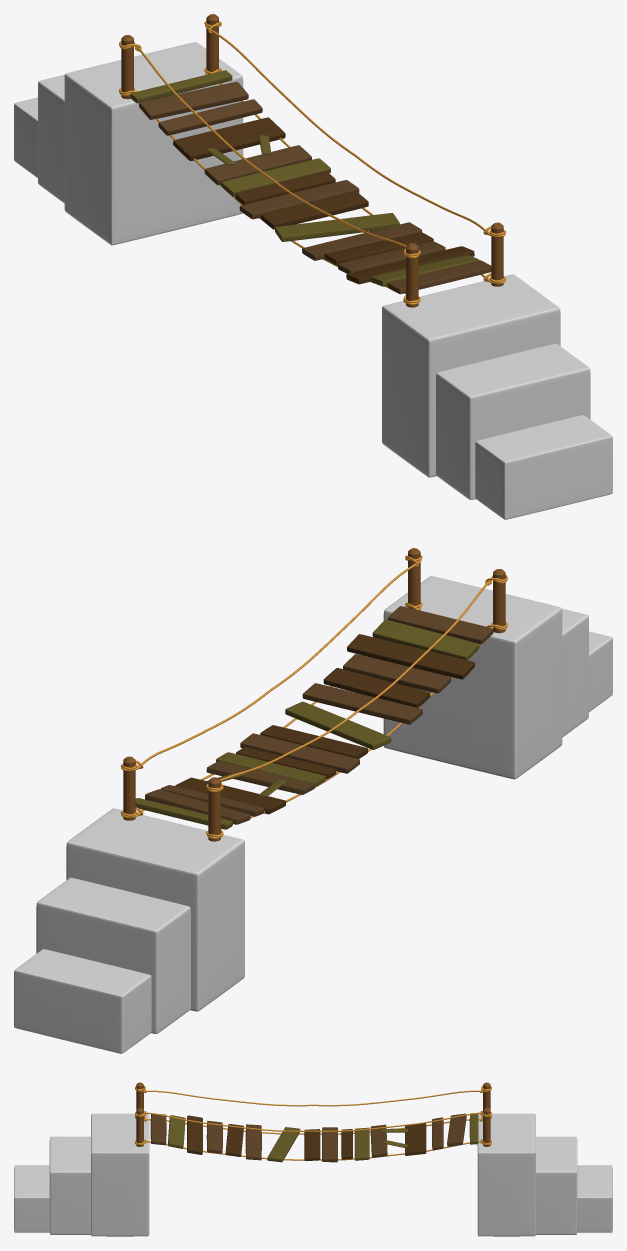
Rendered from bridge_fbx.fbx.
The picture shows the model from 3 angles, top to bottom: view 1: azimuth 30°, elevation 25°; view 2: azimuth 150°, elevation 25°; view 3: azimuth 270°, elevation 25°; orthographic projection. The views are drawn at different scales.
Visible parts, largest first — view 1: Cube, Cube.020, Cube.021, Cylinder, Cube.014, BézierCurve, Cube.017, Cube.008, Cube.009, Cube.013, Cube.010, Cube.016 (+10 smaller); view 2: Cube, Cube.020, Cube.021, Cylinder, Cube.003, BézierCurve, Cube.006, Cube.002, Cube.004, Cube.005, Cube.008, Cube.010 (+10 smaller); view 3: Cube, Cube.020, Cube.021, BézierCurve, Cylinder, Cube.014, Cube.008, Cube.003, BézierCurve.001, Cube.006, Cube.010, Cube.009 (+10 smaller).
Part boxes in pixels (box(x1,y1,x2,y2)): Cube: box(64, 42, 560, 477); Cube.020: box(38, 74, 590, 499); Cube.021: box(14, 97, 612, 519); Cylinder: box(121, 14, 503, 307); Cube.014: box(173, 117, 285, 161); BézierCurve: box(119, 21, 505, 258); Cube.017: box(139, 81, 248, 119); Cube.008: box(275, 213, 399, 241); Cube.009: box(260, 191, 368, 229); Cube.013: box(204, 145, 311, 185); Cube.010: box(239, 180, 359, 219); Cube.016: box(158, 99, 262, 135); Cube: box(66, 576, 562, 1011); Cube.020: box(36, 608, 588, 1033); Cube.021: box(14, 631, 612, 1053); Cylinder: box(123, 548, 505, 841); Cube.003: box(347, 634, 475, 679); BézierCurve: box(121, 555, 507, 792); Cube.006: box(302, 683, 422, 724); Cube.002: box(372, 619, 479, 660); Cube.004: box(343, 654, 450, 693); Cube.005: box(323, 668, 430, 707); Cube.008: box(285, 701, 391, 749); Cube.010: box(240, 733, 359, 773); Cube: box(91, 1113, 535, 1236); Cube.020: box(49, 1136, 577, 1234); Cube.021: box(14, 1165, 612, 1232); BézierCurve: box(135, 1086, 491, 1131); Cylinder: box(136, 1082, 490, 1146); Cube.014: box(405, 1123, 426, 1155); Cube.008: box(267, 1127, 300, 1162); Cube.003: box(187, 1115, 202, 1154); BézierCurve.001: box(135, 1115, 491, 1160); Cube.006: box(245, 1124, 261, 1160); Cube.010: box(322, 1127, 337, 1162); Cube.009: box(304, 1129, 320, 1160).
Size of the model in its own units: 244 by 349 by 1561.
